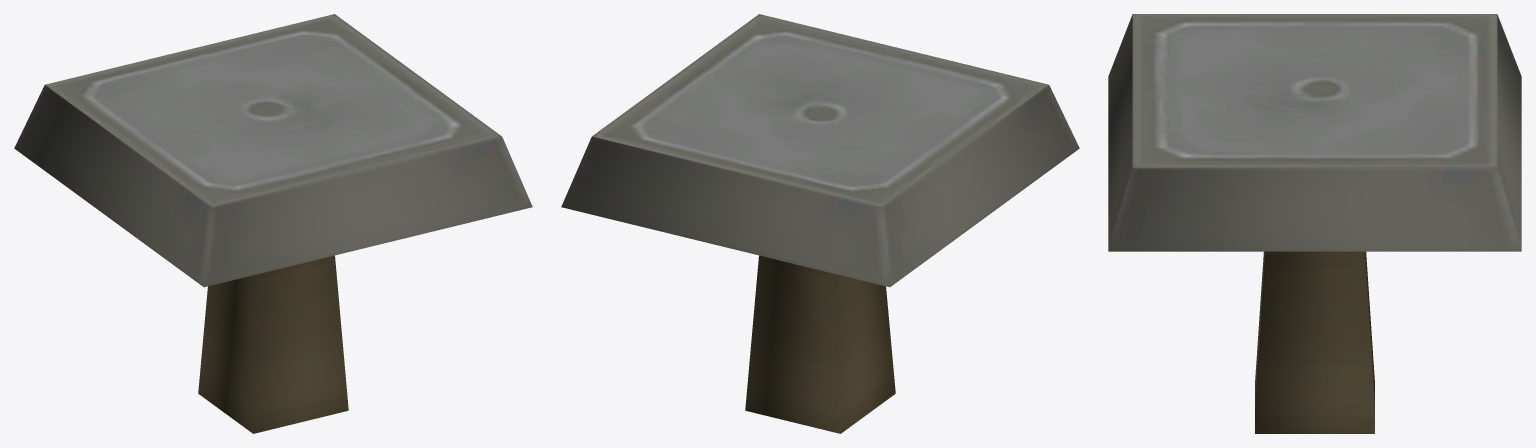
Rendered from chair01.obj.
3 renders of one model, left to right at view 1: azimuth 30°, elevation 25°; view 2: azimuth 150°, elevation 25°; view 3: azimuth 270°, elevation 25°, orthographic. The views are drawn at different scales.
Visible parts, largest first — view 1: chair01; view 2: chair01; view 3: chair01.
Boxes of the visible parts, x1,y1,x2,y2 form: chair01: (14, 14, 532, 433); chair01: (561, 14, 1079, 433); chair01: (1108, 14, 1521, 433).
Size of the model in its own units: 0.56 by 0.4744 by 0.56.
1 material, 1 textured.
